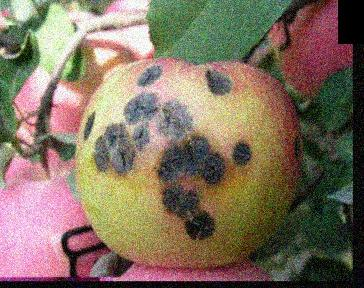rotten apple: (74, 53, 304, 268)
